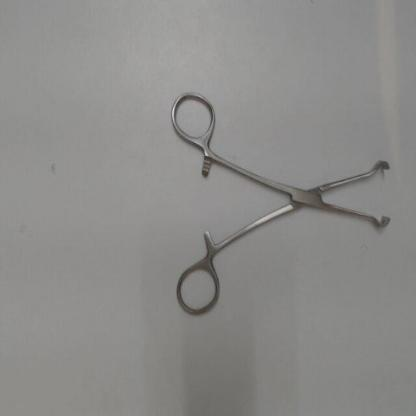Babcock Tissue Forceps: (166, 82, 396, 322)
